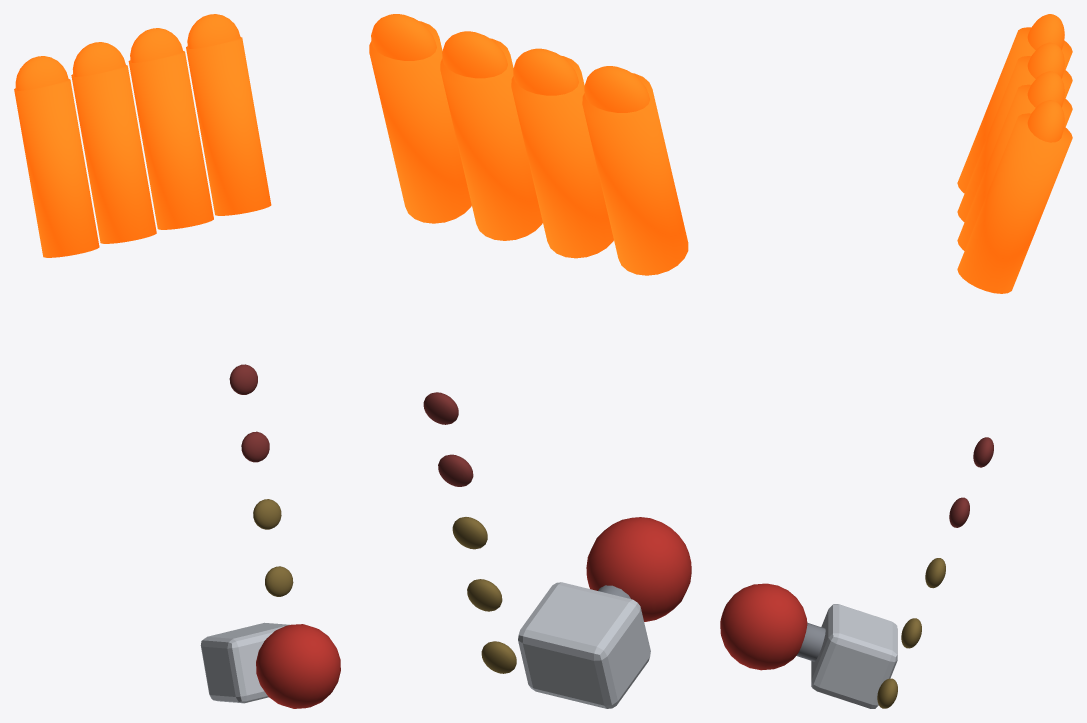
File: charge.glb
3 renders of one model, left to right at view 1: azimuth 30°, elevation 25°; view 2: azimuth 150°, elevation 25°; view 3: azimuth 270°, elevation 25°, orthographic. The views are drawn at different scales.
Visible parts, largest first — view 1: pkt_tube_env_1, pkt_tube_env_3, pkt_tube_env_0, pkt_tube_env_2, pkt_chg_knob, pkt_chg_shoe, pkt_tube_dome_0, pkt_tube_dome_3, pkt_tube_dome_2, pkt_tube_dome_1, pkt_chg_pip_3, pkt_chg_pip_2 (+2 smaller); view 2: pkt_chg_shoe, pkt_tube_env_0, pkt_tube_env_1, pkt_tube_env_3, pkt_tube_env_2, pkt_chg_knob, pkt_tube_dome_1, pkt_tube_dome_2, pkt_tube_dome_0, pkt_tube_dome_3, pkt_chg_pip_0, pkt_chg_pip_1 (+3 smaller); view 3: pkt_tube_env_3, pkt_chg_shoe, pkt_chg_knob, pkt_tube_env_2, pkt_tube_env_0, pkt_tube_env_1, pkt_tube_dome_3, pkt_tube_dome_2, pkt_tube_dome_1, pkt_tube_dome_0, pkt_chg_stem.
Boxes of the visible parts, box(x1,y1,x2,y2) form: pkt_tube_env_1: box(71, 65, 156, 243); pkt_tube_env_3: box(186, 37, 271, 215); pkt_tube_env_0: box(14, 79, 99, 257); pkt_tube_env_2: box(128, 51, 213, 229); pkt_chg_knob: box(256, 624, 340, 708); pkt_chg_shoe: box(200, 622, 290, 703); pkt_tube_dome_0: box(15, 56, 68, 90); pkt_tube_dome_3: box(187, 14, 240, 48); pkt_tube_dome_2: box(130, 28, 182, 62); pkt_tube_dome_1: box(72, 42, 125, 76); pkt_chg_pip_3: box(241, 431, 269, 462); pkt_chg_pip_2: box(253, 499, 281, 529); pkt_chg_shoe: box(518, 582, 650, 708); pkt_tube_env_0: box(582, 73, 688, 275); pkt_tube_env_1: box(511, 55, 613, 258); pkt_tube_env_3: box(369, 21, 471, 223); pkt_tube_env_2: box(440, 38, 542, 240); pkt_chg_knob: box(586, 517, 691, 621); pkt_tube_dome_1: box(513, 48, 578, 95); pkt_tube_dome_2: box(442, 31, 507, 78); pkt_tube_dome_0: box(584, 66, 650, 112); pkt_tube_dome_3: box(371, 14, 436, 60); pkt_chg_pip_0: box(481, 641, 516, 673); pkt_chg_pip_1: box(467, 579, 502, 611); pkt_tube_env_3: box(957, 113, 1072, 293); pkt_chg_shoe: box(811, 604, 897, 708); pkt_chg_knob: box(720, 583, 807, 670); pkt_tube_env_2: box(957, 84, 1072, 250); pkt_tube_env_0: box(957, 27, 1072, 193); pkt_tube_env_1: box(957, 56, 1072, 222); pkt_tube_dome_3: box(1027, 100, 1064, 142); pkt_tube_dome_2: box(1027, 71, 1064, 107); pkt_tube_dome_1: box(1027, 42, 1064, 78); pkt_tube_dome_0: box(1027, 14, 1064, 50); pkt_chg_stem: box(796, 622, 825, 661).
Size of the model in its own units: 0.1069 by 0.2769 by 0.1433.
